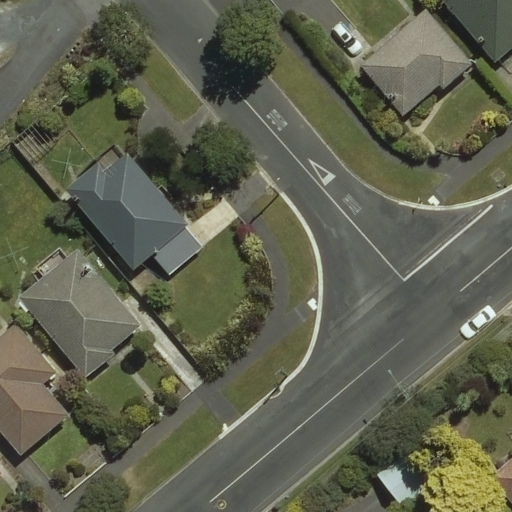DT: (382, 359, 418, 407)
